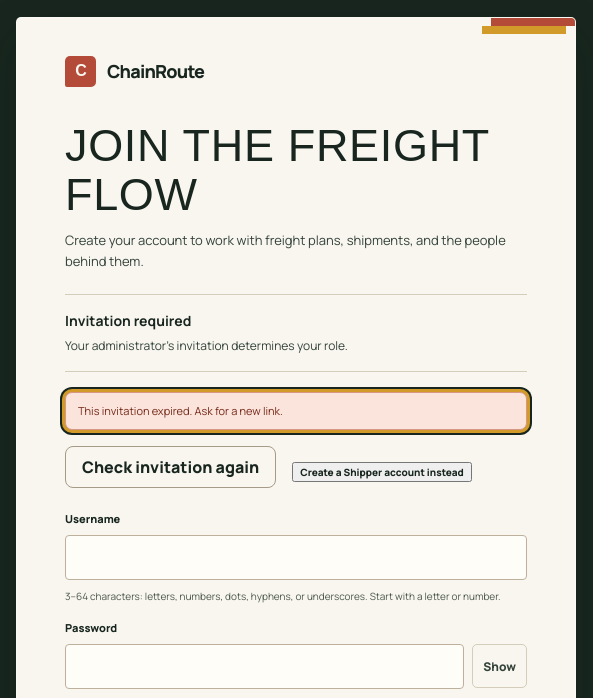
Test: account signup › blocks an invalid invitation and allows explicit recovery to public signup
The width and height of the screenshot is (593, 698).
expect the message "This invitation expired. Ask for a new link." is shown: met, box 65,392 -> 527,430
Click the button "Create a Shipper account instead": [382, 472] box 292,462 -> 472,482
(page scrolled)
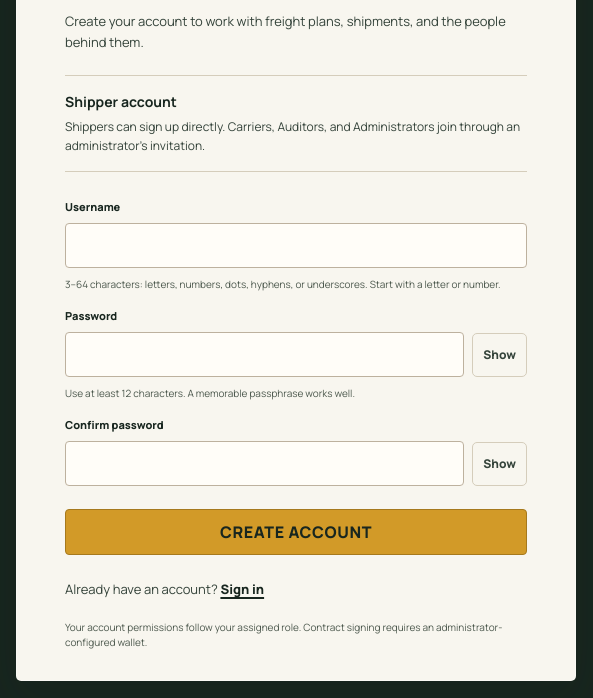
expect the text "Shipper account" is shown: met, box 65,92 -> 177,111
expect the button "Create account" is enabled: met, box 65,509 -> 527,555
